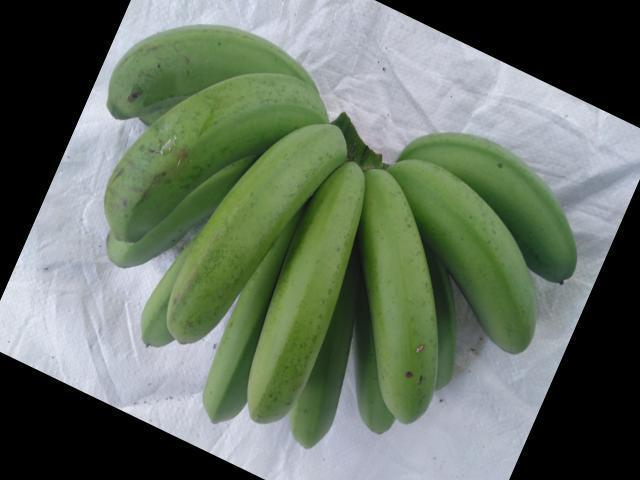unripe: (154, 117, 371, 343), (55, 71, 319, 233), (244, 152, 377, 430), (403, 114, 590, 261), (410, 185, 561, 358), (358, 170, 444, 439), (81, 19, 322, 92), (185, 306, 272, 423)
